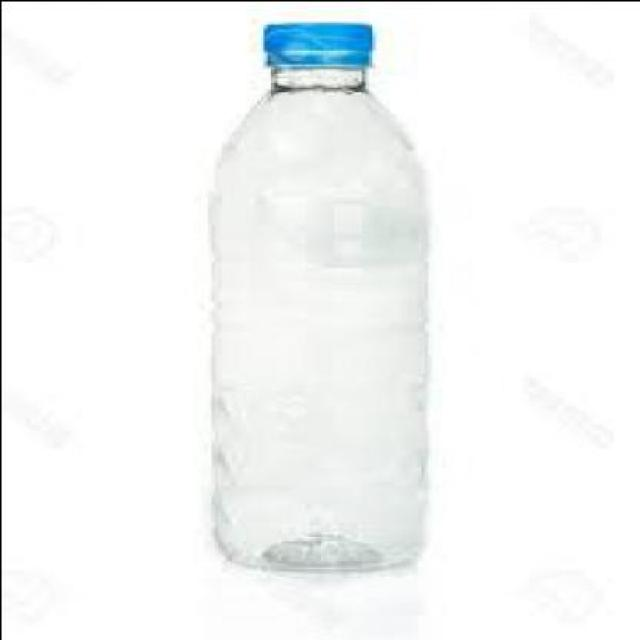PLASTIC: (213, 17, 430, 568), (262, 13, 378, 65)
